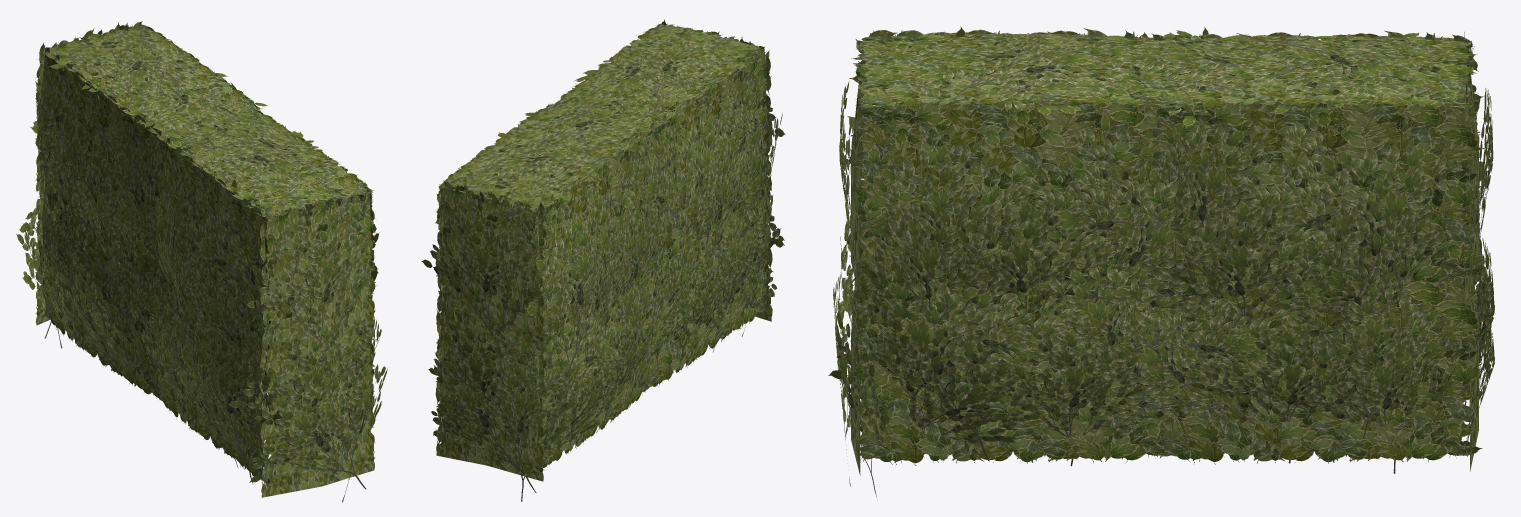
The model's file is MB_Boxwood_Shrubs_05.fbx.
3 renders of one model, left to right at view 1: azimuth 30°, elevation 25°; view 2: azimuth 150°, elevation 25°; view 3: azimuth 270°, elevation 25°, orthographic. The views are drawn at different scales.
Parts seen in each view (by area): view 1: MB_Boxwood_Shrubs_05_LOD0; view 2: MB_Boxwood_Shrubs_05_LOD0; view 3: MB_Boxwood_Shrubs_05_LOD0.
Boxes of the visible parts, x1,y1,x2,y2 form: MB_Boxwood_Shrubs_05_LOD0: [16, 21, 387, 502]; MB_Boxwood_Shrubs_05_LOD0: [421, 19, 785, 501]; MB_Boxwood_Shrubs_05_LOD0: [828, 26, 1494, 497].
Size of what is drawn, in the model's own units: 142 by 260 by 374.
